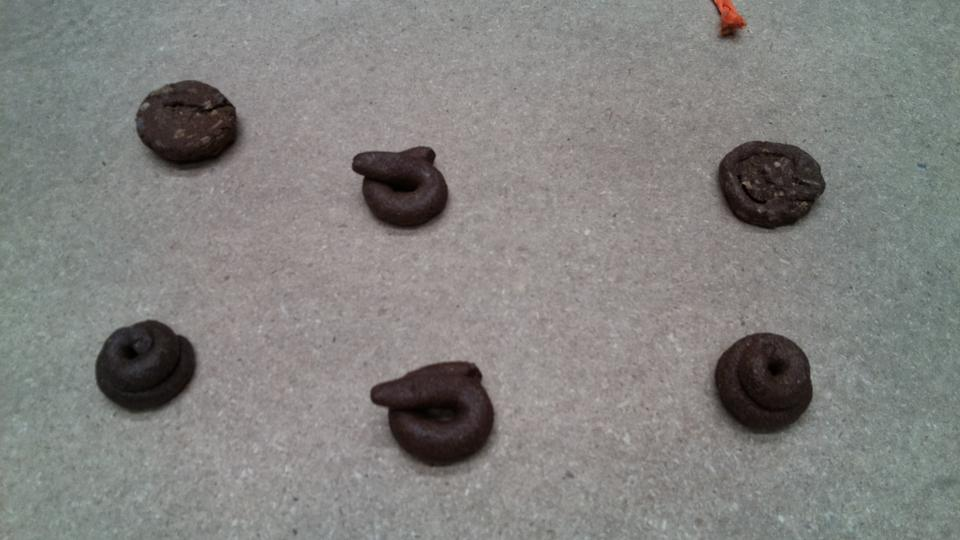poop: (365, 356, 497, 473), (711, 327, 814, 438), (715, 136, 831, 233), (92, 314, 201, 417), (132, 77, 243, 170), (349, 137, 452, 233)
rope: (708, 1, 750, 41)
